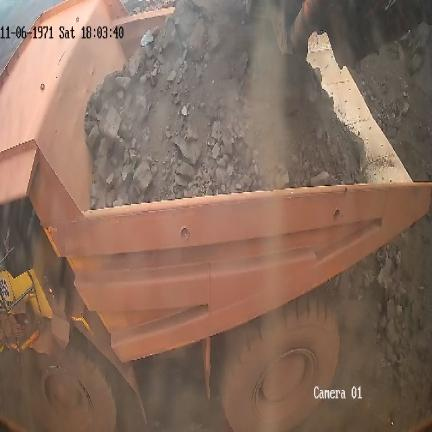pile: (85, 1, 368, 207), (338, 217, 432, 404), (350, 25, 432, 178)
